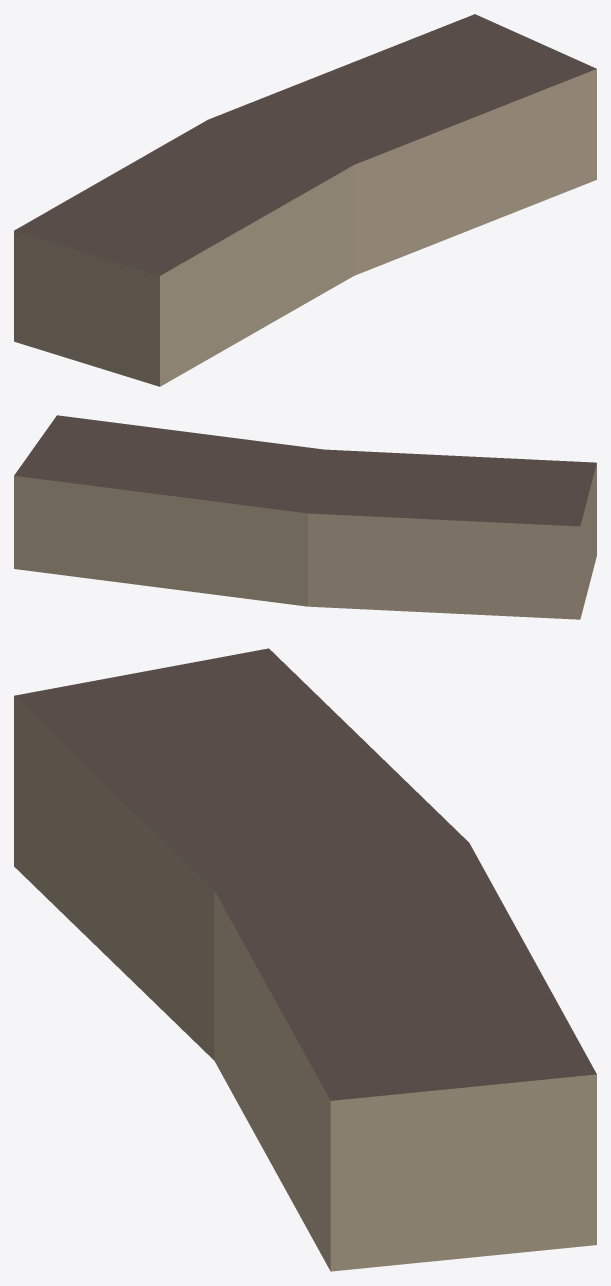
3 renders of one model, top to bottom at view 1: azimuth 30°, elevation 25°; view 2: azimuth 150°, elevation 25°; view 3: azimuth 270°, elevation 25°, orthographic. The views are drawn at different scales.
Visible parts, largest first — view 1: HP-w859457513; view 2: HP-w859457513; view 3: HP-w859457513.
Part boxes in pixels (bbox=[...]): HP-w859457513: bbox=[14, 14, 596, 386]; HP-w859457513: bbox=[14, 415, 596, 619]; HP-w859457513: bbox=[14, 648, 596, 1271].
Size of the model in its own units: 51.18 by 9 by 27.86.
